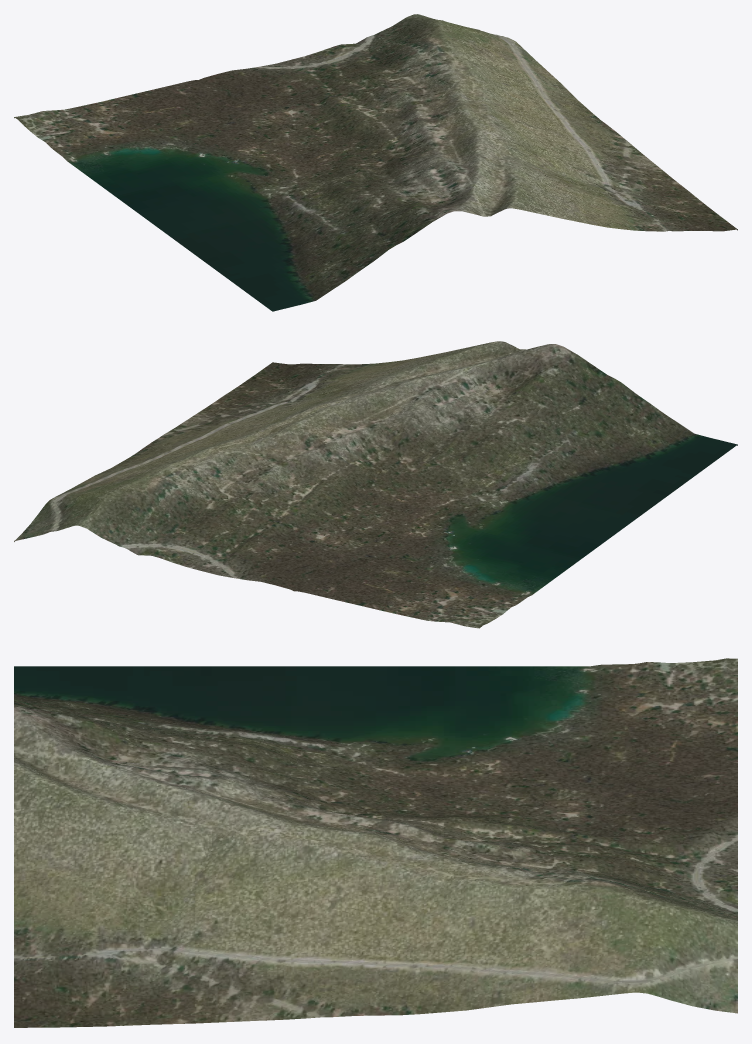
3 views of the same model, one above another, from view 1: azimuth 30°, elevation 25°; view 2: azimuth 150°, elevation 25°; view 3: azimuth 270°, elevation 25° (orthographic). The views are drawn at different scales.
Bounding box in the file's own units: 1000 × 182 × 963.
Materials: 1 (1 with a texture image).
